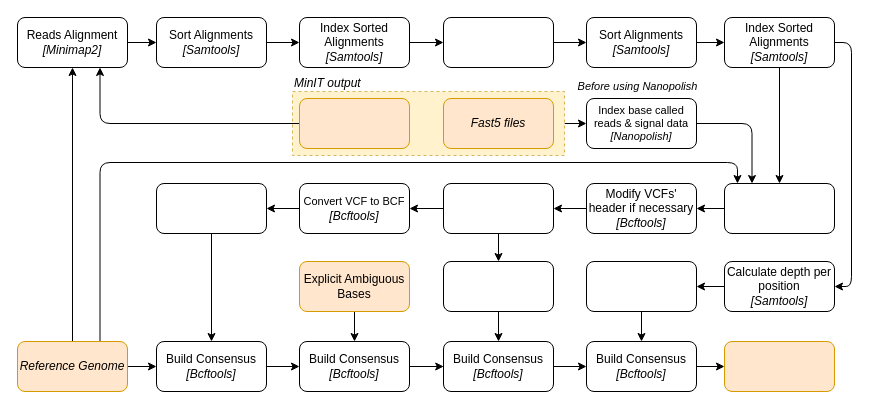
Image size: 877x409. Some labels were removed from this diagram. Here are the shapes that lost their labels. From the top down, the centre of each, then its label:
At (x=498, y=42): "Trim Alignments [Artic_c trim]".
At (x=354, y=123): "reads.fasta".
At (x=211, y=208): "Index VCFs [Bcftools]".
At (x=498, y=208): "Concatenate VCFs [Bcftools]".
At (x=779, y=208): "Call Variants [Nanopolish]".
At (x=498, y=286): "Query VCF to extract bad variants [Bcftools]".
At (x=641, y=286): "Filter low depth positions [Artic_c mask]".
At (x=779, y=366): "Consensus output".
